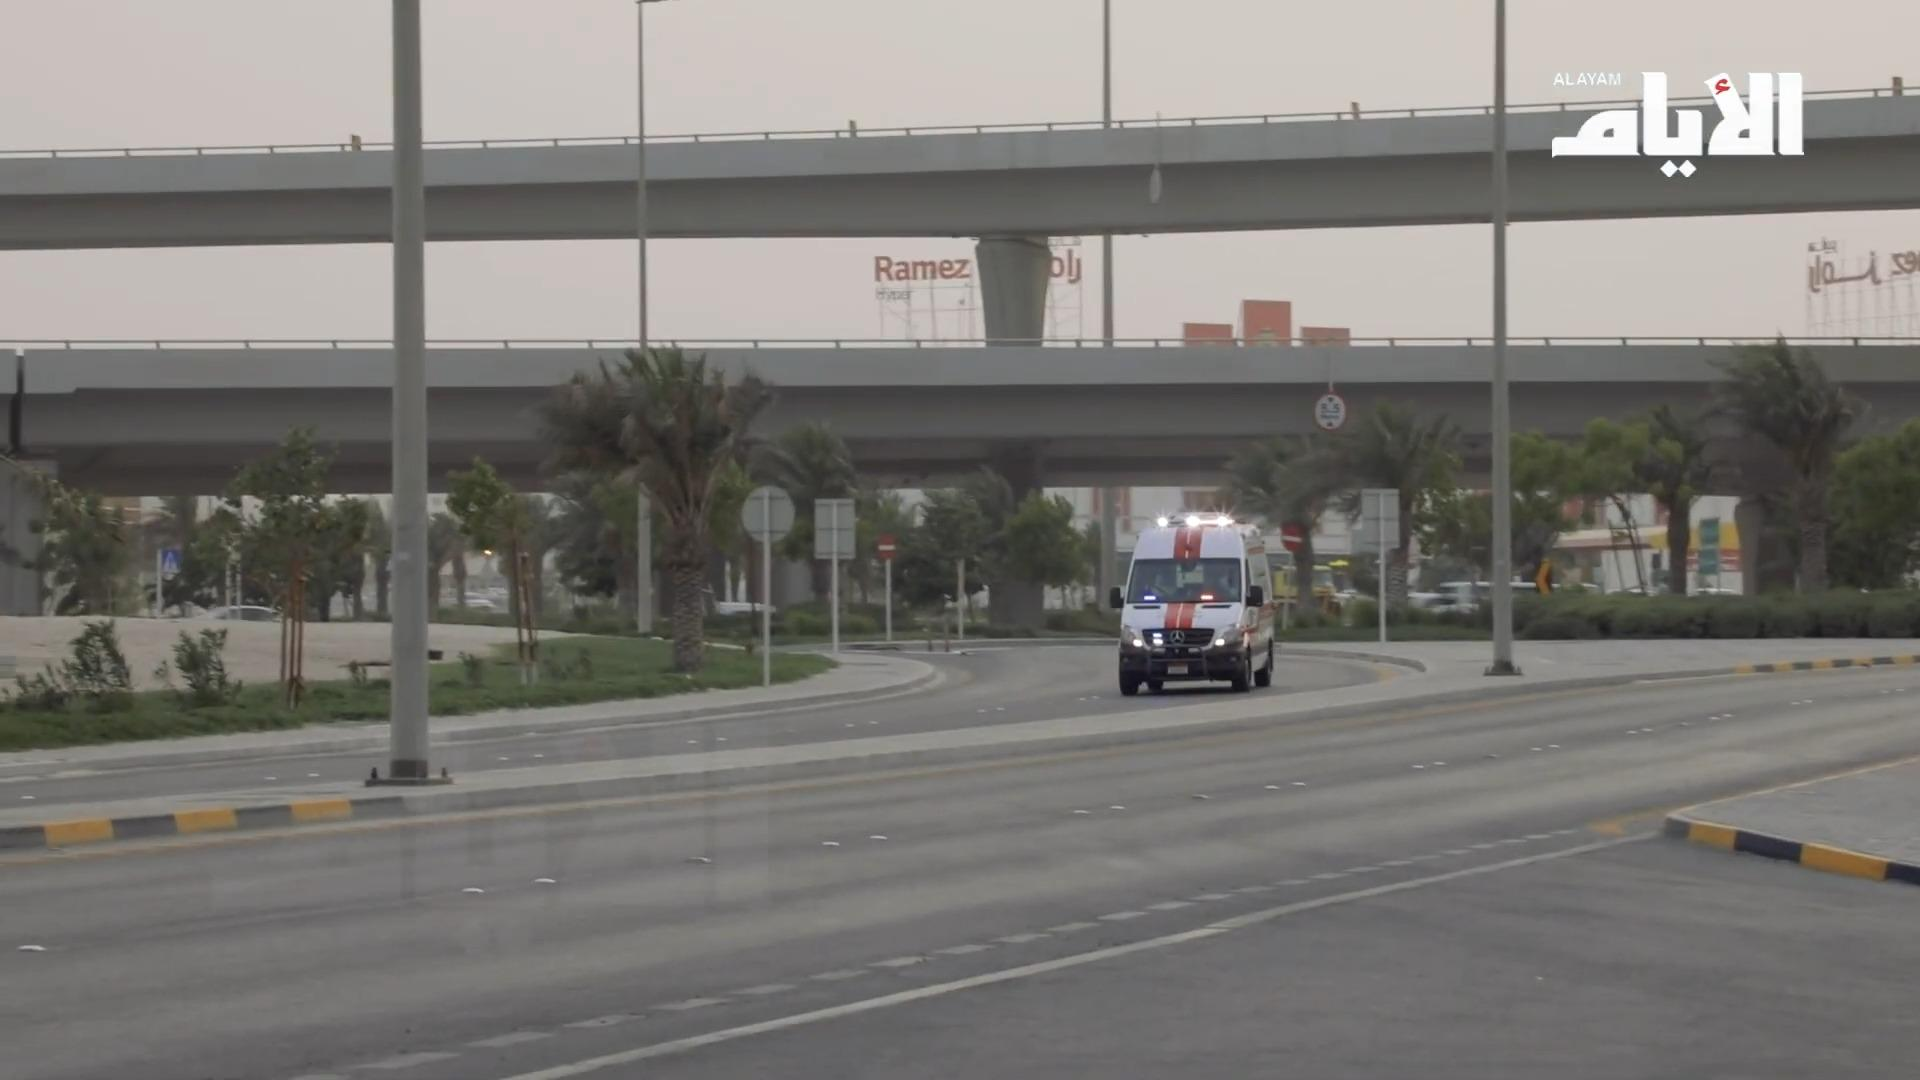ambulance_on: (1109, 512, 1276, 696)
